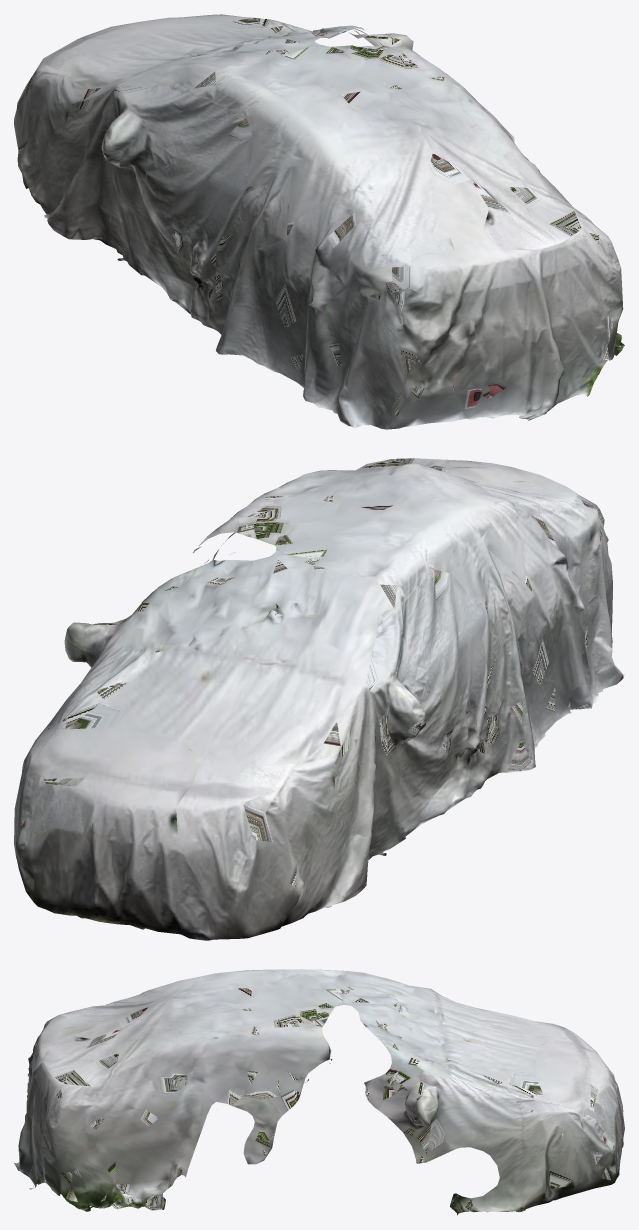
File: sedan_car_covered_with_a_gray_car_cloth.glb
The picture shows the model from 3 angles, top to bottom: view 1: azimuth 30°, elevation 25°; view 2: azimuth 150°, elevation 25°; view 3: azimuth 270°, elevation 25°; orthographic projection. The views are drawn at different scales.
Visible parts, largest first — view 1: Object_4; view 2: Object_4; view 3: Object_4.
Boxes of the visible parts, x1,y1,x2,y2 form: Object_4: (14, 14, 624, 429); Object_4: (14, 458, 624, 940); Object_4: (14, 969, 624, 1215).
Size of the model in its own units: 2.07 by 1.34 by 4.49.
1 material, 1 textured.
